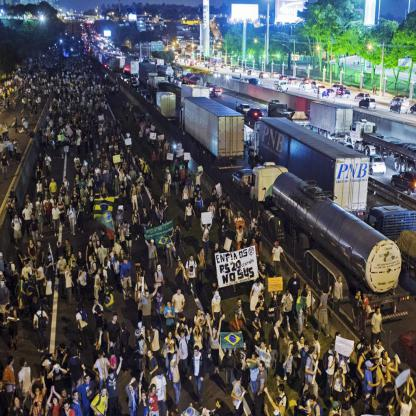face: (16, 399, 21, 407), (65, 406, 70, 412), (55, 368, 60, 374), (75, 394, 79, 401), (54, 399, 58, 405), (63, 392, 67, 398), (87, 378, 91, 384), (103, 390, 107, 396), (143, 395, 147, 401), (114, 316, 118, 322), (259, 365, 263, 371), (36, 390, 40, 395), (45, 365, 49, 370), (140, 278, 144, 283), (158, 266, 162, 271), (181, 333, 185, 338), (305, 345, 309, 350), (1, 383, 4, 389), (153, 388, 156, 394), (149, 353, 152, 359), (239, 302, 242, 308), (162, 373, 165, 379), (217, 402, 220, 408), (176, 408, 179, 414), (214, 329, 217, 335), (230, 348, 233, 354), (167, 410, 170, 416), (244, 344, 247, 350), (258, 333, 261, 339), (279, 388, 282, 394), (311, 400, 314, 406), (302, 338, 305, 344), (338, 405, 341, 411), (349, 387, 352, 393), (385, 354, 388, 360), (379, 343, 382, 349), (369, 344, 372, 350), (12, 361, 15, 366), (60, 347, 63, 352), (76, 351, 79, 356), (111, 374, 114, 379), (130, 387, 133, 392), (147, 293, 150, 298), (191, 257, 194, 262), (179, 290, 182, 295), (195, 351, 198, 356), (197, 328, 200, 333), (179, 317, 182, 322), (275, 244, 278, 249), (258, 309, 261, 314), (294, 274, 297, 279), (304, 295, 307, 300), (359, 292, 362, 297), (364, 294, 367, 299), (252, 356, 255, 361), (262, 343, 265, 348), (276, 401, 279, 406), (305, 395, 308, 400), (313, 350, 316, 355), (278, 323, 281, 328), (339, 336, 342, 341), (370, 365, 373, 370), (389, 387, 392, 392), (374, 395, 377, 400), (367, 394, 370, 399), (38, 243, 41, 247), (157, 293, 160, 297), (168, 304, 171, 308), (124, 260, 127, 264), (97, 148, 100, 152), (202, 249, 205, 253), (213, 284, 216, 288), (216, 296, 219, 300), (169, 335, 172, 339), (172, 412, 175, 416), (182, 324, 185, 328), (245, 239, 248, 243), (232, 247, 235, 251), (263, 267, 266, 271), (276, 291, 279, 295), (366, 349, 368, 355), (129, 149, 131, 154), (180, 263, 182, 268), (217, 245, 219, 250), (260, 299, 262, 304), (307, 285, 309, 290), (378, 310, 380, 315), (358, 303, 360, 308), (314, 336, 316, 341), (288, 335, 290, 340), (334, 347, 336, 352), (404, 397, 406, 402), (377, 400, 379, 405), (8, 309, 11, 312), (73, 264, 76, 267), (98, 271, 101, 274), (121, 222, 124, 225), (253, 220, 256, 223), (26, 363, 28, 367), (54, 356, 56, 360), (68, 267, 70, 271), (61, 257, 63, 261), (136, 263, 138, 267), (139, 277, 141, 281), (90, 258, 92, 262), (90, 242, 92, 246), (98, 242, 100, 246), (102, 232, 104, 236), (125, 224, 127, 228), (208, 315, 210, 319), (202, 316, 204, 320), (239, 214, 241, 218), (253, 240, 255, 244), (259, 282, 261, 286), (288, 291, 290, 295), (340, 279, 342, 283), (338, 371, 340, 375), (393, 363, 395, 367), (51, 359, 53, 362), (27, 265, 29, 268), (31, 242, 33, 245), (50, 257, 52, 260), (73, 255, 75, 258), (80, 254, 82, 257), (69, 251, 71, 254), (60, 244, 62, 247), (66, 242, 69, 244), (2, 276, 4, 279), (1, 257, 3, 260), (15, 247, 17, 250), (16, 216, 18, 219), (33, 216, 35, 219), (55, 206, 57, 209), (52, 197, 54, 200), (53, 179, 55, 182), (60, 195, 62, 198), (79, 203, 81, 206), (75, 188, 77, 191), (80, 270, 82, 273), (152, 242, 154, 245), (122, 252, 124, 255), (95, 233, 97, 236), (110, 259, 112, 262), (96, 251, 98, 254), (122, 226, 124, 229), (118, 212, 120, 215), (119, 241, 121, 244), (106, 156, 108, 159), (121, 155, 123, 158), (115, 155, 118, 157), (131, 167, 133, 170), (149, 129, 151, 132), (198, 173, 200, 176), (144, 210, 146, 213), (177, 227, 179, 230), (199, 312, 201, 315), (211, 203, 213, 206), (228, 196, 230, 199), (224, 219, 226, 222), (257, 232, 259, 235), (26, 207, 28, 209), (39, 182, 41, 184), (65, 179, 67, 181), (75, 193, 77, 195), (77, 176, 79, 178), (114, 249, 116, 251), (81, 188, 83, 190), (82, 181, 84, 183), (89, 176, 91, 178), (104, 185, 106, 187), (116, 176, 118, 178), (92, 169, 94, 171), (101, 160, 103, 162), (112, 137, 114, 139), (104, 154, 106, 156), (133, 185, 135, 187), (145, 122, 147, 124), (183, 168, 185, 170), (174, 142, 176, 144), (166, 182, 168, 184), (186, 188, 188, 190), (189, 178, 191, 180), (161, 198, 163, 200), (165, 199, 167, 201), (224, 201, 226, 203), (39, 207, 40, 210), (71, 205, 72, 208), (95, 257, 96, 260), (108, 259, 109, 262), (136, 210, 137, 213), (92, 190, 93, 193), (122, 170, 123, 173), (139, 183, 140, 186), (150, 125, 151, 128), (162, 149, 163, 152), (193, 183, 194, 186), (241, 229, 242, 232), (13, 190, 14, 192), (29, 201, 30, 203), (39, 198, 40, 200), (47, 181, 48, 183), (47, 198, 48, 200), (49, 201, 50, 203), (60, 200, 61, 202), (63, 185, 64, 187), (67, 193, 68, 195), (18, 143, 19, 145), (38, 167, 39, 169), (41, 155, 42, 157), (47, 155, 48, 157), (83, 189, 84, 191), (98, 176, 99, 178), (124, 166, 125, 168), (107, 172, 108, 174), (106, 168, 107, 170), (96, 168, 98, 169), (85, 162, 86, 164), (78, 162, 79, 164), (77, 156, 78, 158), (113, 168, 114, 170), (125, 160, 126, 162), (91, 136, 92, 138), (78, 129, 79, 131), (68, 124, 69, 126), (73, 138, 74, 140), (80, 123, 81, 125), (6, 156, 7, 158), (48, 125, 49, 127), (43, 126, 44, 128), (87, 122, 88, 124), (83, 120, 84, 122), (92, 154, 93, 156), (104, 150, 105, 152), (127, 175, 129, 176), (125, 192, 126, 194), (133, 168, 134, 170), (137, 158, 138, 160), (143, 158, 144, 160), (145, 162, 146, 164), (150, 169, 151, 171), (141, 174, 142, 176), (141, 180, 142, 182), (139, 116, 140, 118), (143, 113, 144, 115), (154, 124, 155, 126), (143, 123, 144, 125), (149, 119, 150, 121), (142, 129, 143, 131), (177, 171, 178, 173), (154, 153, 155, 155), (167, 141, 168, 143), (170, 151, 171, 153), (181, 142, 182, 144), (178, 148, 179, 150), (177, 161, 178, 163), (168, 172, 169, 174), (153, 200, 154, 202), (190, 204, 191, 206), (200, 193, 201, 195), (198, 188, 199, 190), (215, 190, 216, 192), (256, 226, 257, 228), (11, 141, 12, 142), (84, 165, 85, 166), (78, 137, 79, 138), (86, 137, 87, 138), (4, 125, 5, 126), (7, 124, 8, 125), (26, 122, 27, 123), (25, 118, 26, 119), (24, 114, 25, 115), (26, 115, 27, 116), (61, 117, 62, 118), (52, 120, 53, 121), (48, 116, 49, 117), (54, 115, 55, 116), (148, 113, 149, 114)
